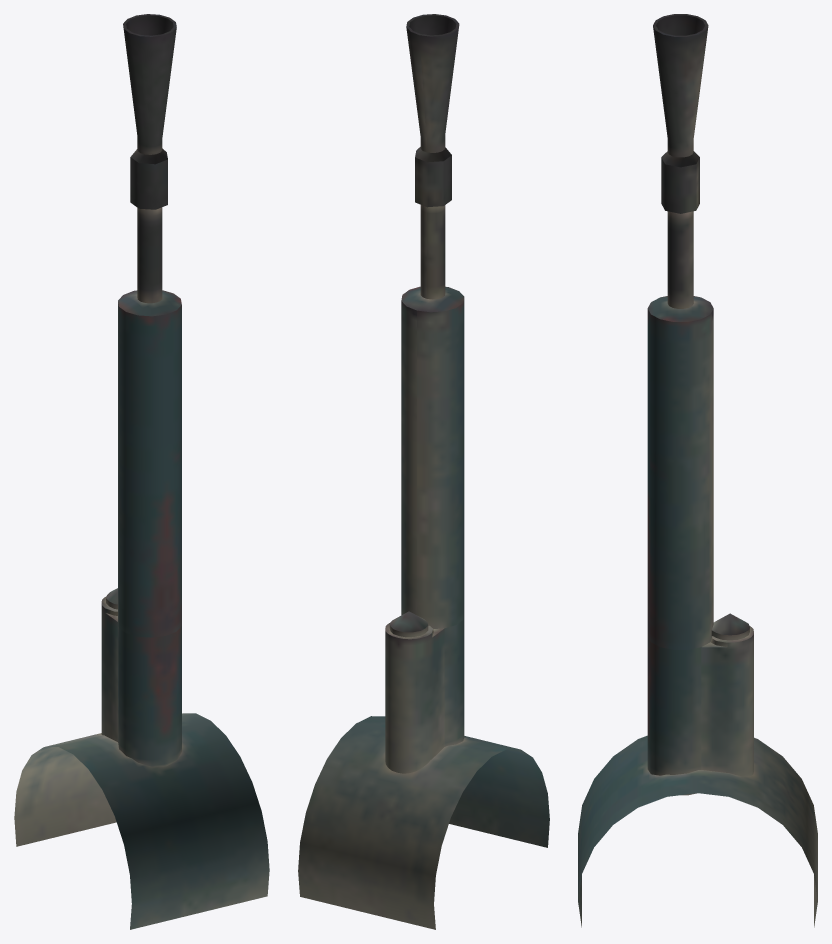
The model's file is Gun_06.glb.
3 renders of one model, left to right at view 1: azimuth 30°, elevation 25°; view 2: azimuth 150°, elevation 25°; view 3: azimuth 270°, elevation 25°, orthographic. The views are drawn at different scales.
Parts seen in each view (by area): view 1: set_0_group_0; view 2: set_0_group_0; view 3: set_0_group_0.
Boxes of the visible parts, x1,y1,x2,y2 form: set_0_group_0: (14, 14, 269, 929); set_0_group_0: (298, 14, 549, 929); set_0_group_0: (578, 14, 817, 927).
Bounding box in the file's own units: 0.2102 × 1.24 × 0.3106.
Materials: 1 (1 with a texture image).
